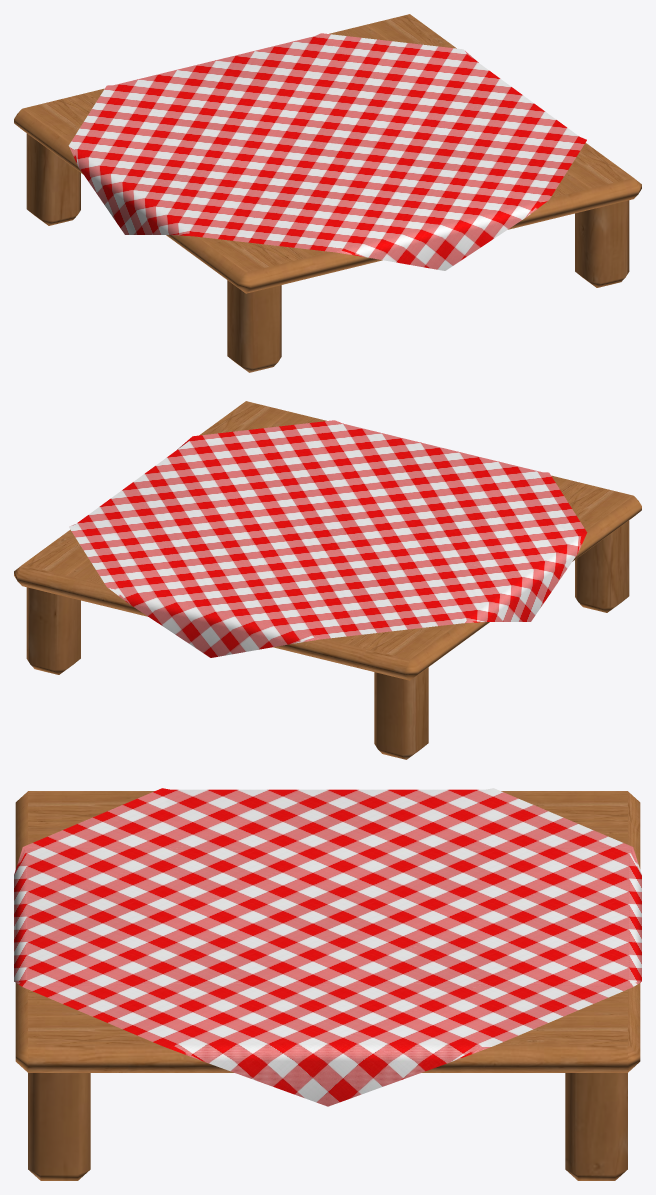
File: shop_display.glb
3 renders of one model, top to bottom at view 1: azimuth 30°, elevation 25°; view 2: azimuth 150°, elevation 25°; view 3: azimuth 270°, elevation 25°, orthographic. The views are drawn at different scales.
Visible parts, largest first — view 1: shop_display.002; view 2: shop_display.002; view 3: shop_display.002.
Part boxes in pixels (x1,y1,x2,y2): shop_display.002: [14, 14, 641, 372]; shop_display.002: [14, 401, 641, 759]; shop_display.002: [14, 788, 641, 1180].
Bounding box in the file's own units: 1.01 × 0.2513 × 1.01.
Materials: 2 (2 with a texture image).
